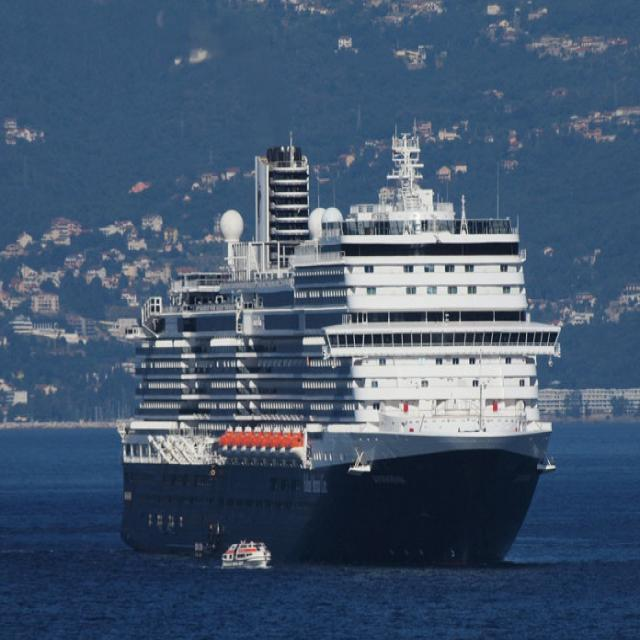cruises: (119, 131, 563, 577)
